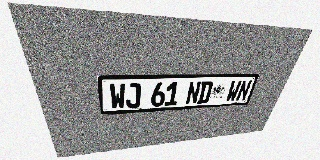1: (164, 82, 180, 106)
6: (151, 82, 166, 107)
D: (197, 81, 214, 104)
J: (126, 83, 141, 109)
N: (185, 81, 202, 105), (235, 80, 253, 101)
W: (109, 83, 126, 110), (225, 80, 242, 102)
